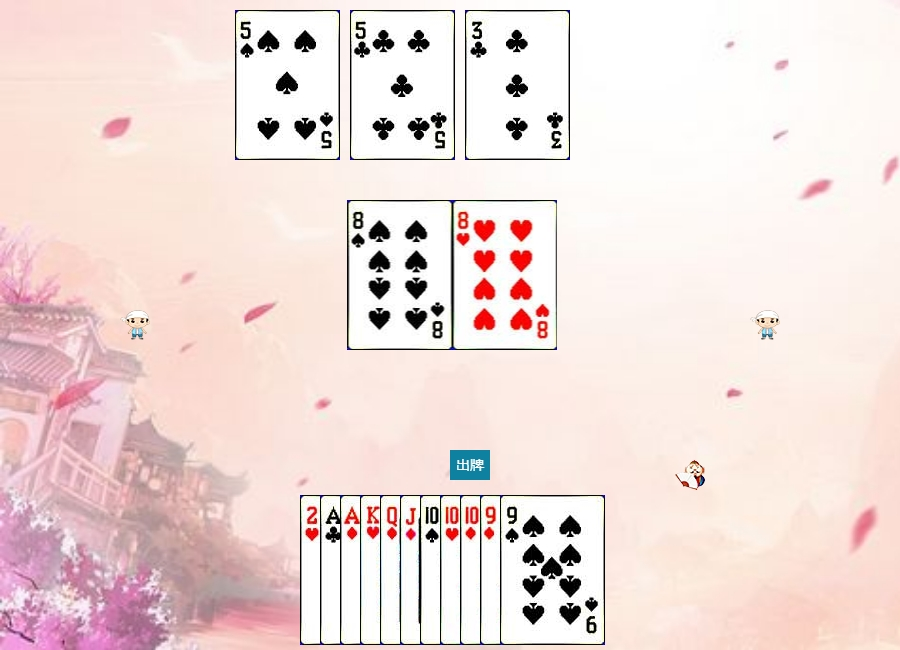10~1: (460, 495, 565, 645)
10~3: (440, 495, 545, 645)
10~4: (420, 495, 525, 645)
11~1: (400, 495, 505, 645)
12~1: (380, 495, 485, 645)
13~3: (360, 495, 465, 645)
14~1: (340, 495, 445, 645)
14~2: (320, 495, 425, 645)
15~3: (300, 495, 405, 645)
3~2: (465, 10, 570, 160)
5~2: (350, 10, 455, 160)
5~4: (235, 10, 340, 160)
8~3: (453, 200, 558, 350)
8~4: (348, 200, 453, 350)
9~1: (480, 495, 585, 645)
9~4: (500, 495, 605, 645)
